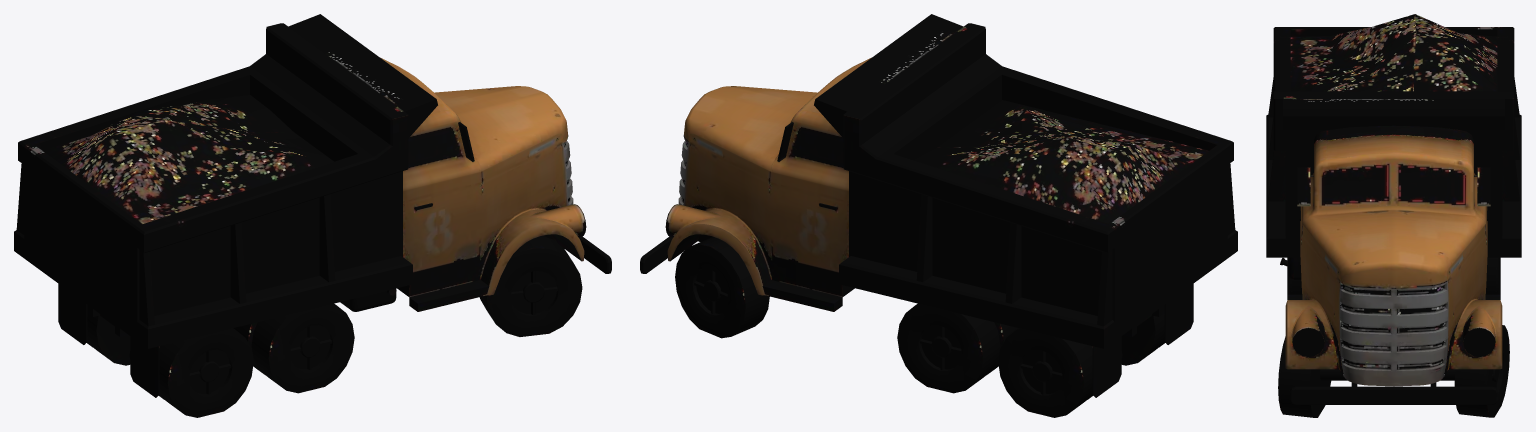
3 renders of one model, left to right at view 1: azimuth 30°, elevation 25°; view 2: azimuth 150°, elevation 25°; view 3: azimuth 270°, elevation 25°, orthographic. The views are drawn at different scales.
Parts seen in each view (by area): view 1: body0_model0_lod0_mesh0; view 2: body0_model0_lod0_mesh0; view 3: body0_model0_lod0_mesh0.
Boxes of the visible parts, x1,y1,x2,y2 form: body0_model0_lod0_mesh0: [14, 14, 611, 417]; body0_model0_lod0_mesh0: [640, 14, 1237, 417]; body0_model0_lod0_mesh0: [1266, 14, 1521, 417].
Bounding box in the file's own units: 264 × 139 × 128.
1 material, 1 textured.
